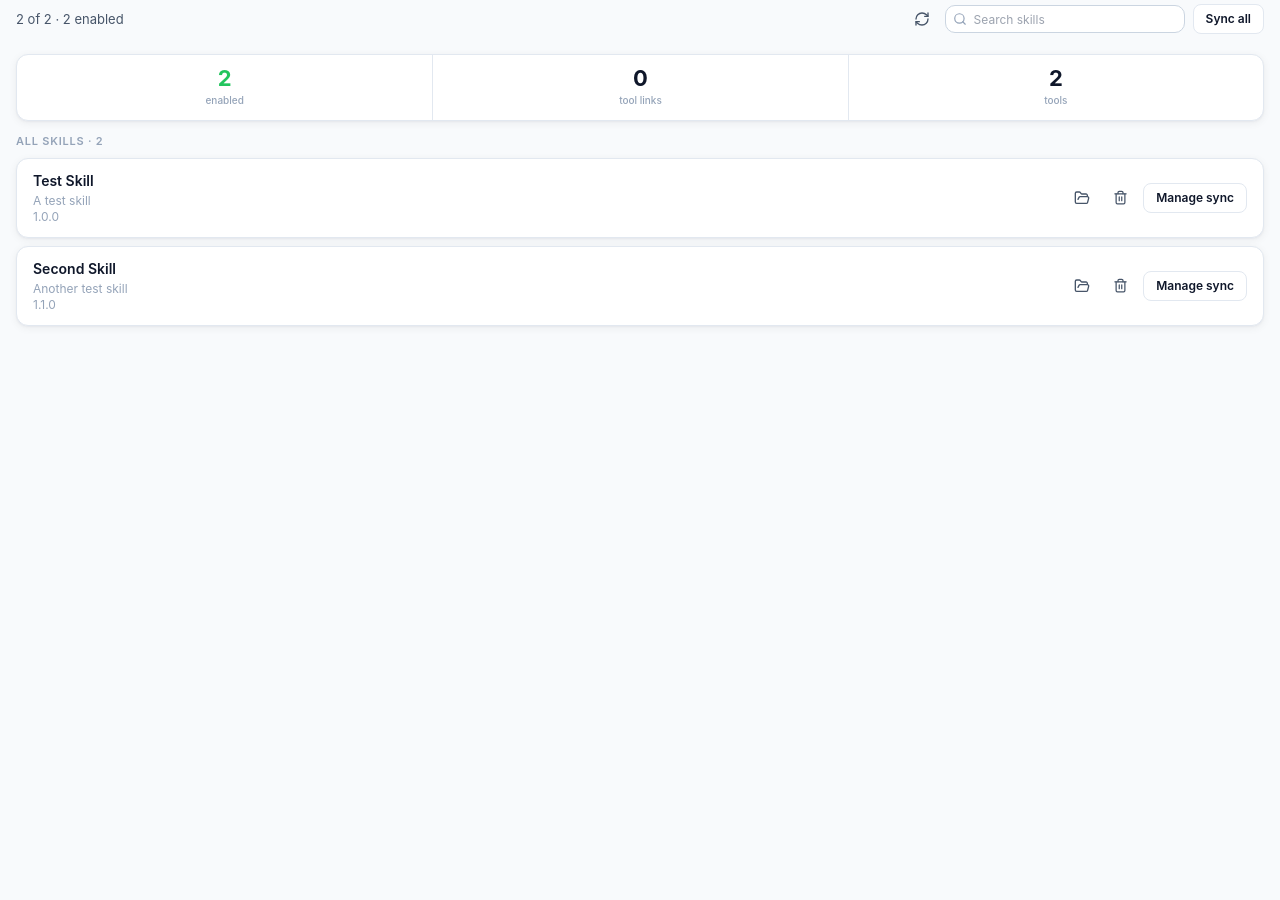
Test: MySkillsPage › shows skill and tool details for partial bulk sync failures
Click the button "Sync all" at (1228, 19), box x1=1193 y1=4 x2=1264 y2=34
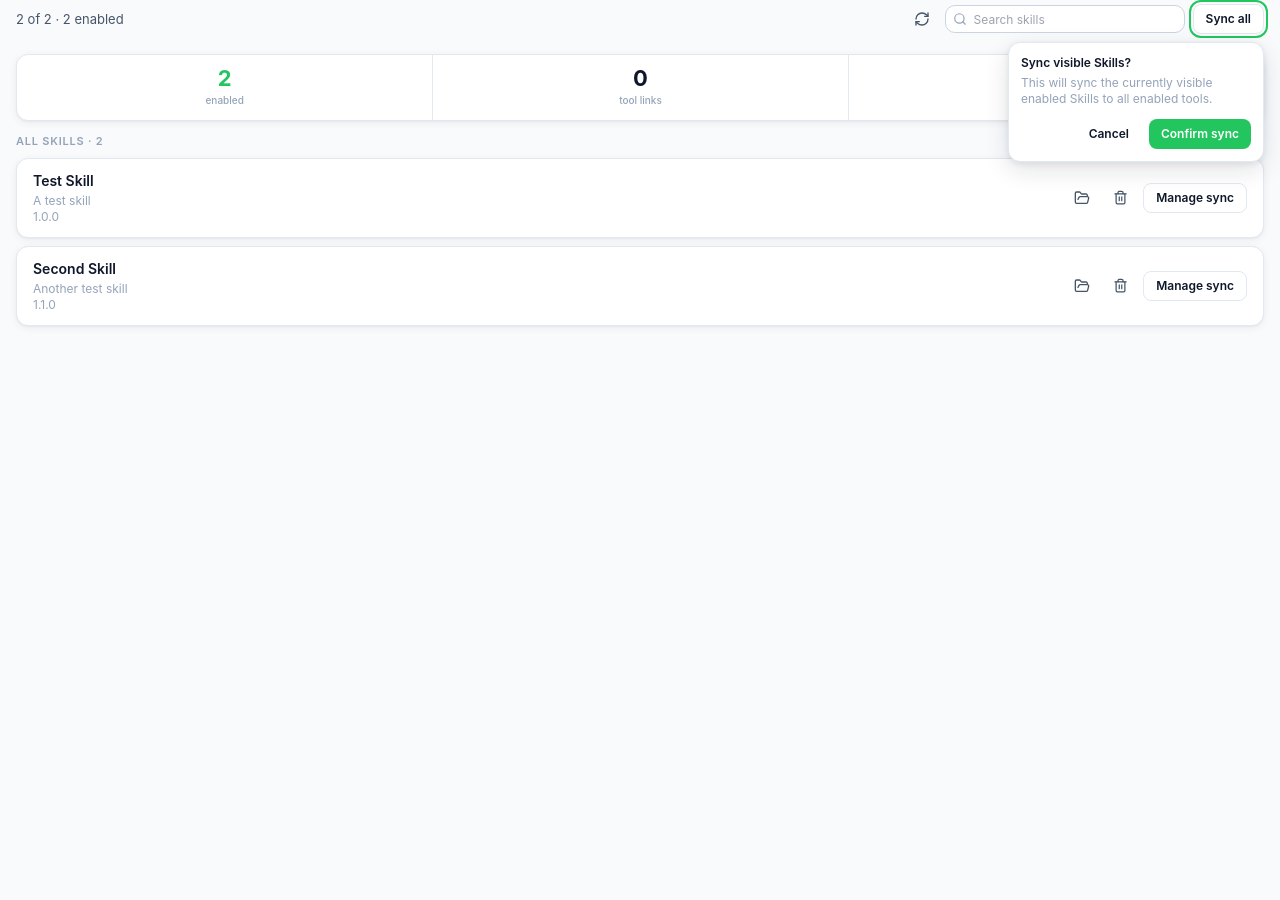
Click the button "Confirm sync" at (1200, 134), box x1=1149 y1=119 x2=1251 y2=149
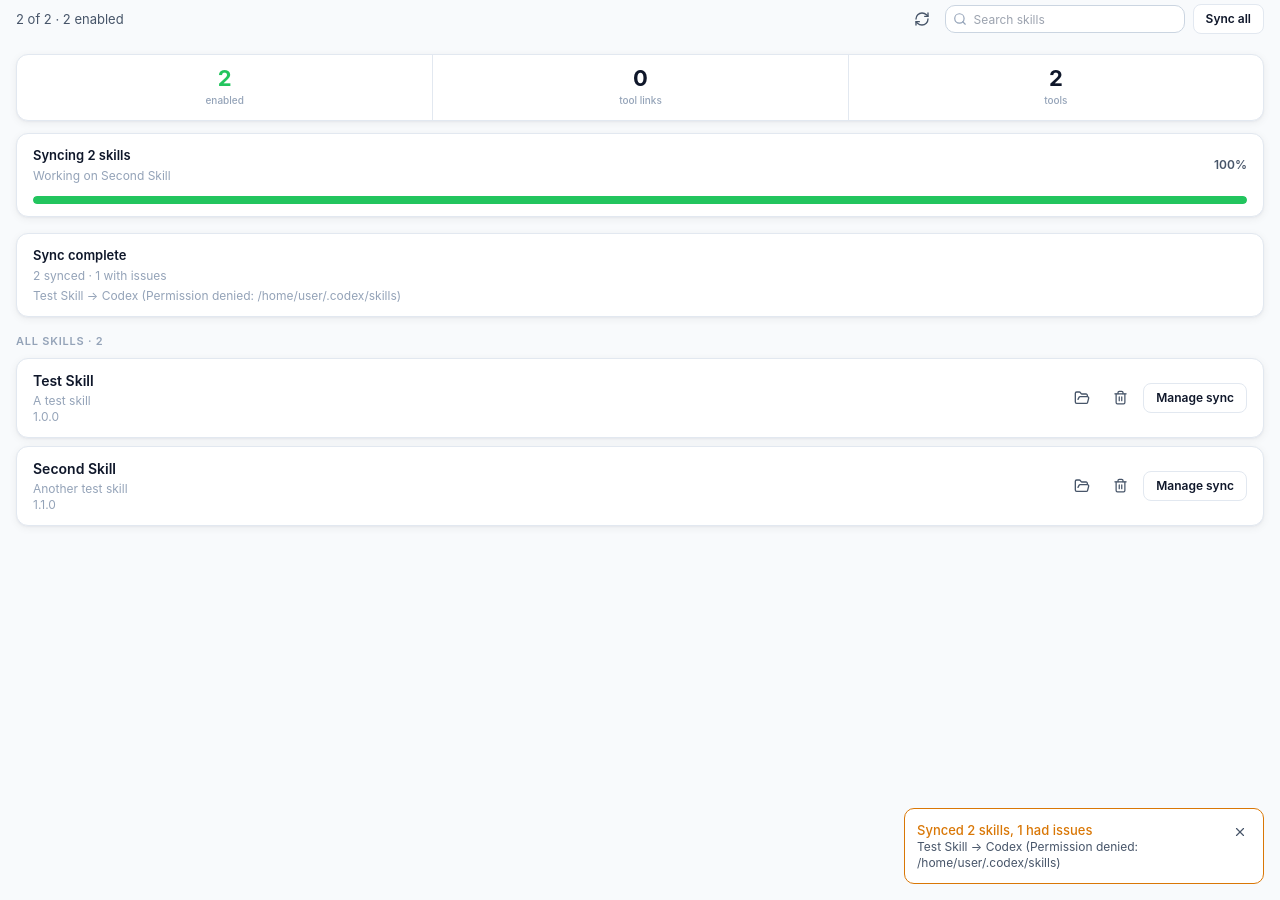
Result: the text "Sync complete" is shown at x1=33 y1=247 x2=126 y2=263
